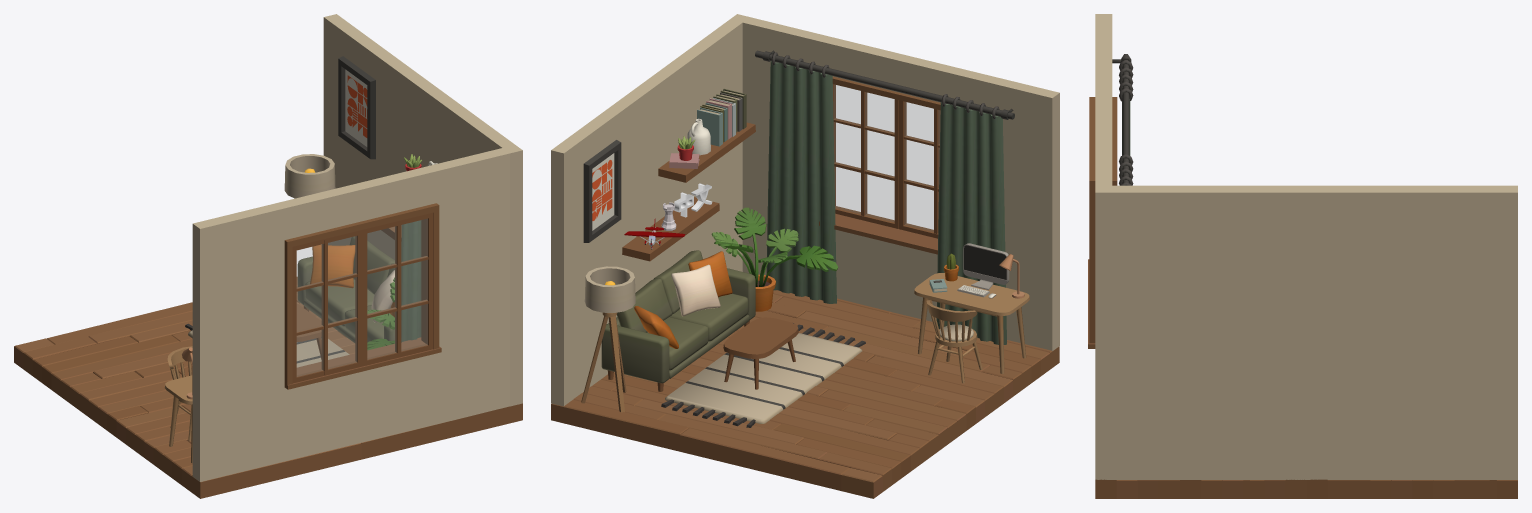
3 views of the same model, side by side, from view 1: azimuth 30°, elevation 25°; view 2: azimuth 150°, elevation 25°; view 3: azimuth 270°, elevation 25° (orthographic). The views are drawn at different scales.
Visible parts, largest first — view 1: Wall_For_Window, Window, Floor, Wall, Sofa, Poster, Curtains, Lamp, Table, Rug, Coffee_Table, Chair (+1 smaller); view 2: Floor, Wall_For_Window, Wall, Curtains, Window, Sofa, Rug, Plant, Lamp, Table, Poster, Shelf (×2) (+6 smaller); view 3: Wall, Floor, Wall_For_Window, Window, Curtains.
Boxes of the visible parts, x1,y1,x2,y2 form: Wall_For_Window: [192, 147, 519, 481]; Window: [284, 203, 441, 389]; Floor: [14, 276, 522, 498]; Wall: [323, 14, 522, 406]; Sofa: [297, 236, 394, 343]; Poster: [338, 56, 375, 159]; Curtains: [401, 220, 421, 342]; Lamp: [284, 154, 335, 198]; Table: [164, 375, 192, 463]; Rug: [185, 323, 349, 367]; Coffee_Table: [296, 304, 321, 359]; Chair: [167, 346, 192, 441]; Floor: [551, 290, 1059, 498]; Wall_For_Window: [731, 14, 1059, 351]; Wall: [551, 14, 749, 406]; Curtains: [755, 50, 1014, 344]; Window: [819, 76, 940, 254]; Sofa: [601, 250, 755, 391]; Rug: [661, 323, 865, 427]; Plant: [711, 207, 838, 311]; Lamp: [581, 266, 635, 412]; Table: [914, 273, 1029, 373]; Poster: [583, 140, 621, 242]; Shelf (×2): [622, 122, 755, 261]; Wall: [1095, 185, 1517, 479]; Floor: [1095, 479, 1517, 498]; Wall_For_Window: [1095, 14, 1112, 192]; Window: [1088, 97, 1117, 348]; Curtains: [1112, 54, 1133, 185].
Size of what is drawn, in the model's own units: 4 by 3.2 by 4.07.
Materials: 8 (7 with a texture image).
